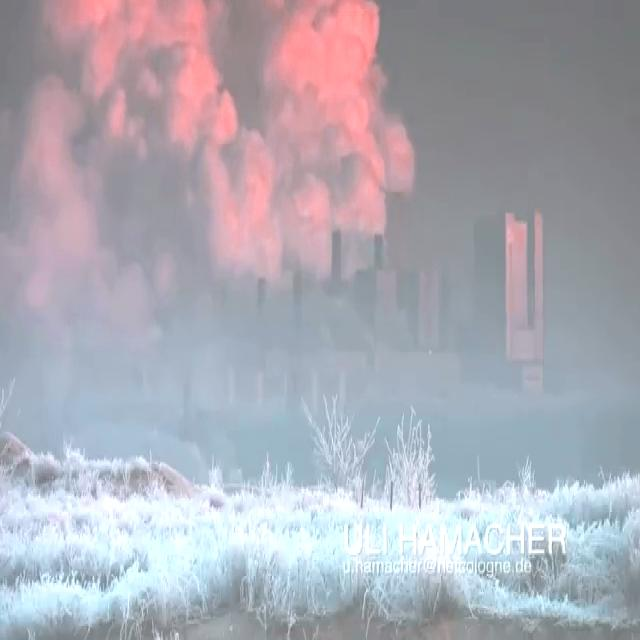smoke: (14, 0, 414, 267)
